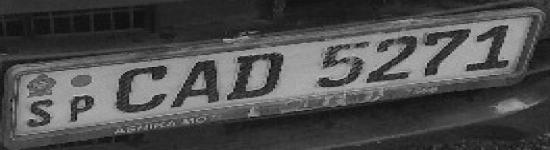1: (459, 23, 525, 75)
2: (367, 33, 422, 85)
5: (315, 40, 369, 89)
7: (413, 25, 477, 80)
A: (171, 58, 223, 108)
C: (114, 64, 171, 115)
D: (226, 51, 288, 100)
P: (62, 93, 98, 124)
S: (24, 98, 59, 130)
